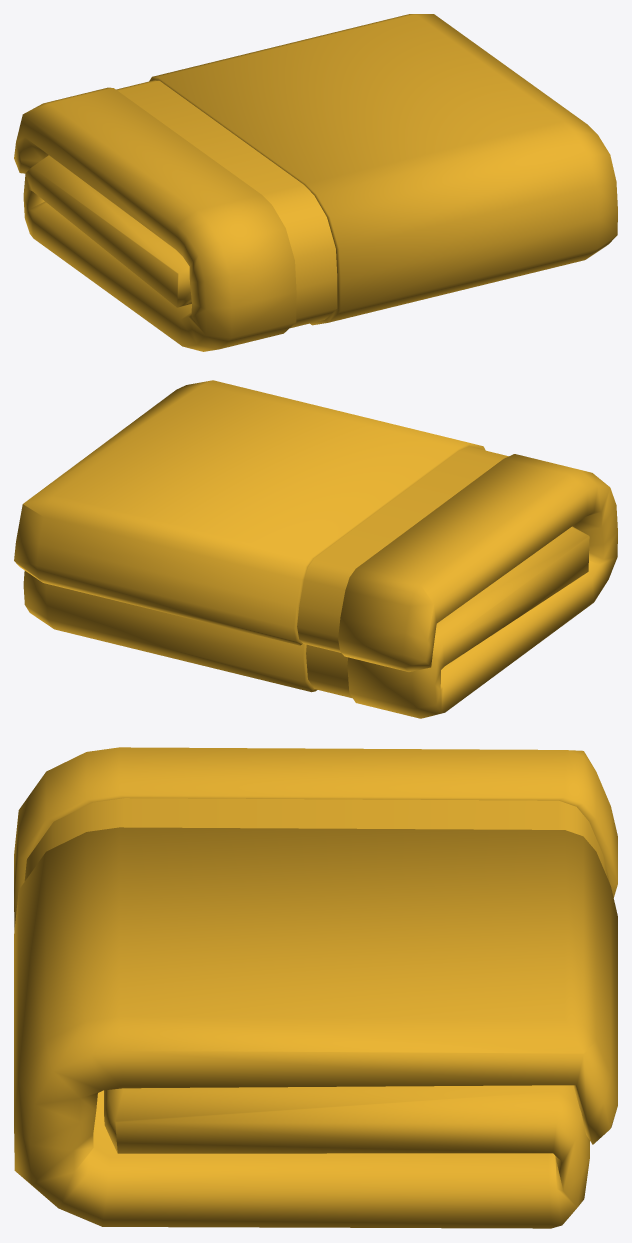
Rendered from towel.fbx.
3 views of the same model, one above another, from view 1: azimuth 30°, elevation 25°; view 2: azimuth 150°, elevation 25°; view 3: azimuth 270°, elevation 25° (orthographic). The views are drawn at different scales.
Visible parts, largest first — view 1: Cube.002; view 2: Cube.002; view 3: Cube.002.
Part boxes in pixels (<box>): Cube.002: <box>14,14,617,351</box>; Cube.002: <box>14,380,617,718</box>; Cube.002: <box>14,747,617,1228</box>.
Size of the model in its own units: 0.757 by 0.2428 by 0.6382.
